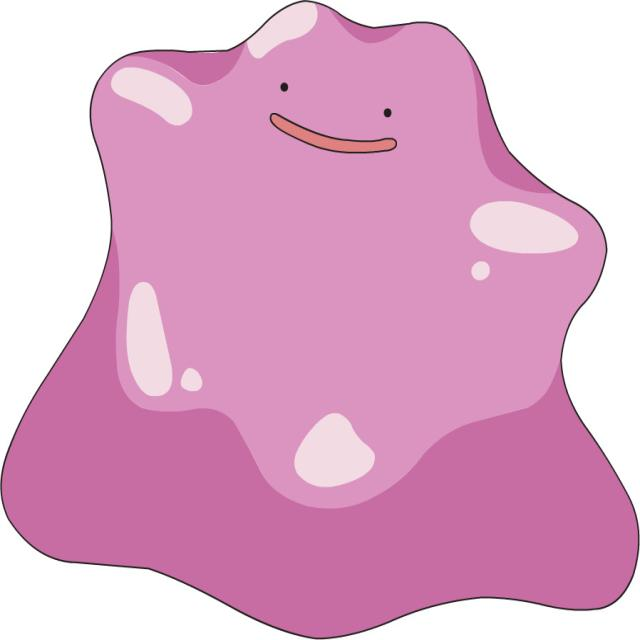Ditto: (38, 0, 629, 624)
